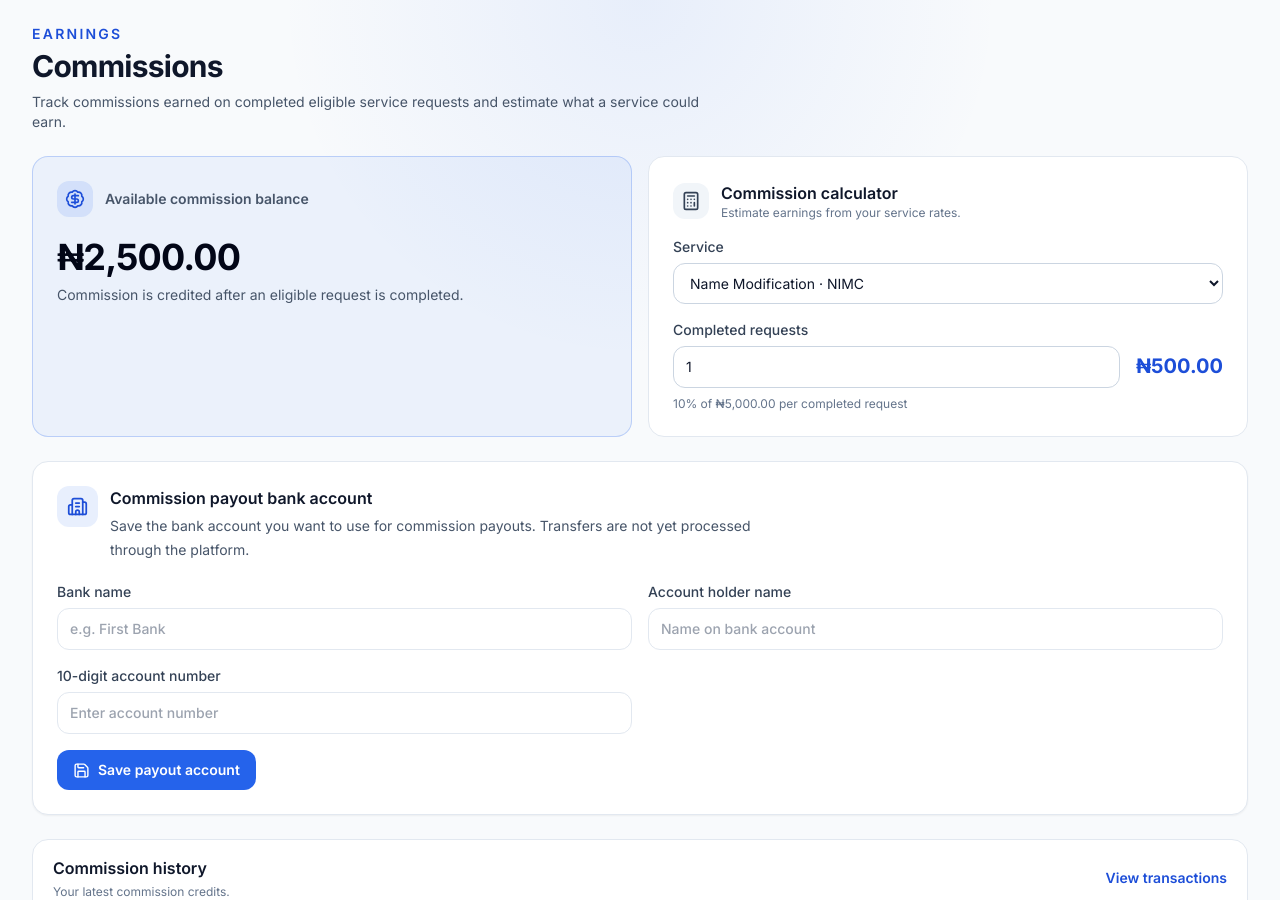
Scenario: Commissions › shows the user's commission summary and bank payout details form
Expected: the text "Available commission balance" is shown, [57,181,309,217]
Expected: the heading "Commission calculator" is shown, [721,183,898,203]
Replace the text in the number field labelled "Completed requests" with "2" at [896, 367], box [673,346,1120,388]
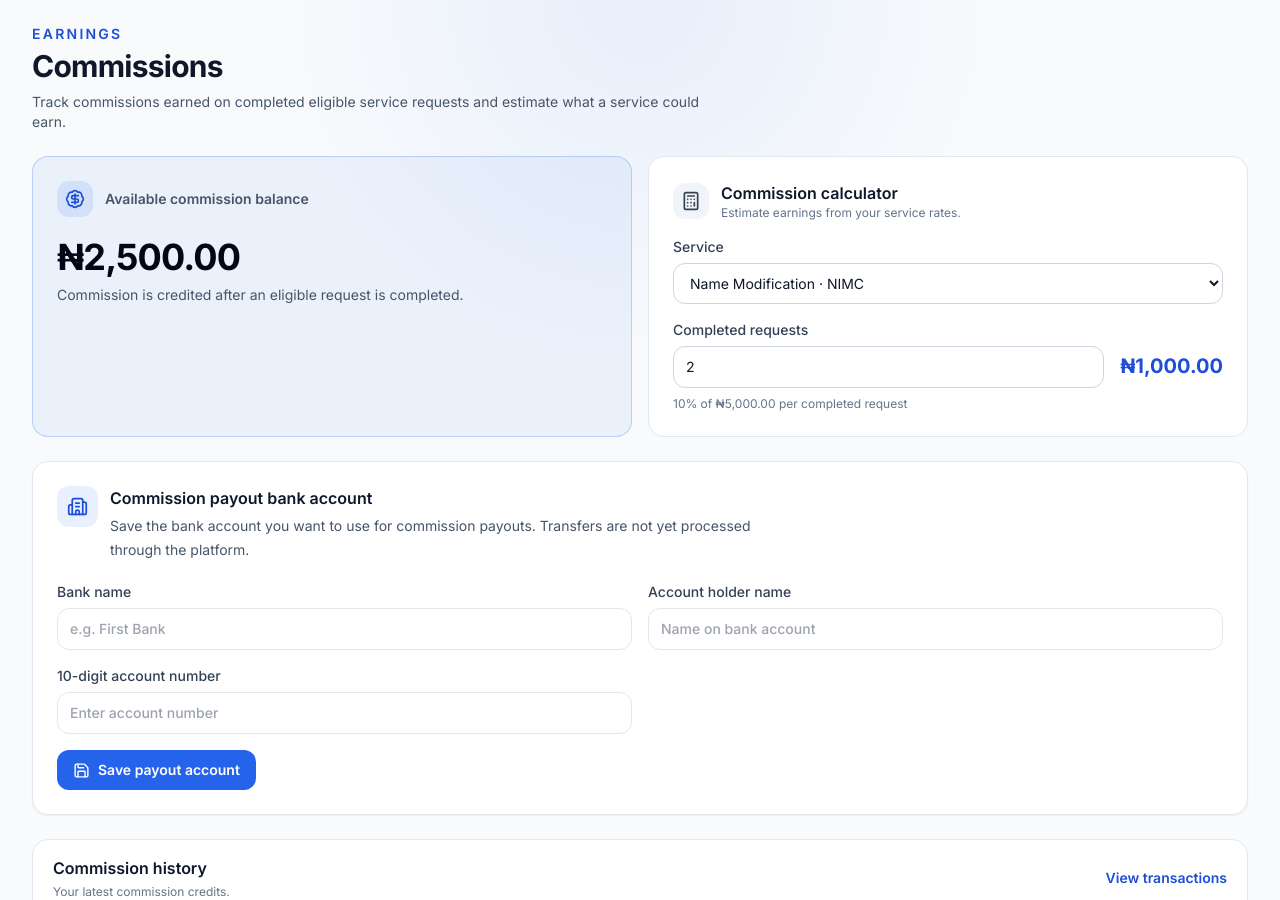
Result: the text "₦1,000.00" is shown at [1120,352,1223,388]
